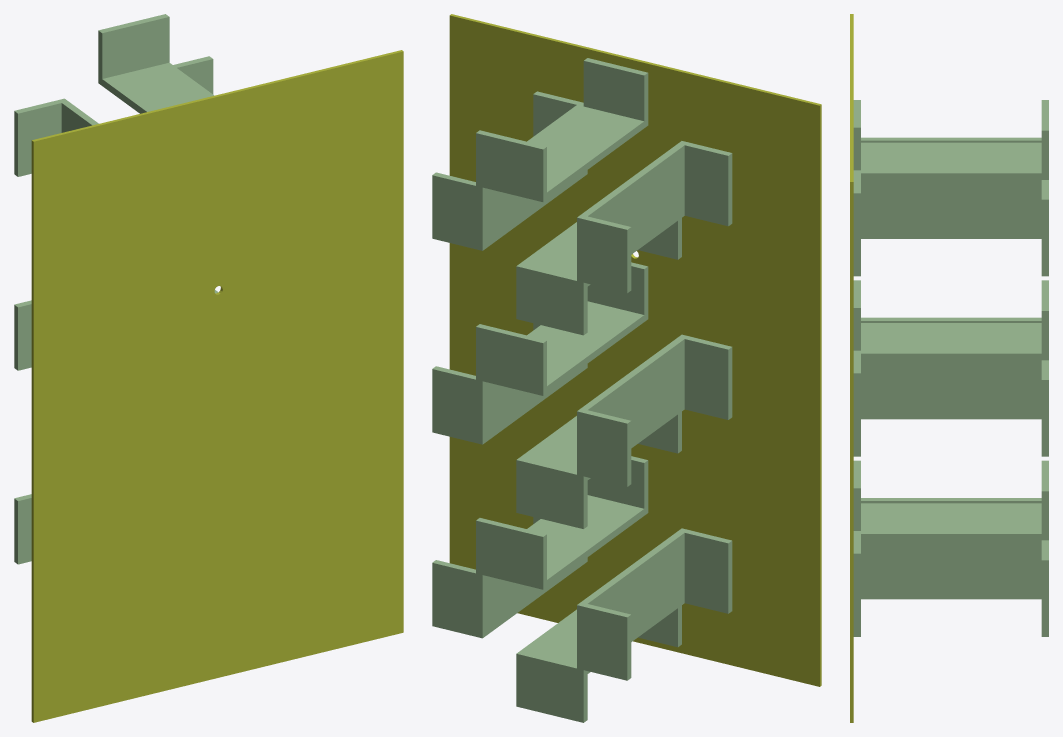
Rendered from tables_confirm_center.obj.
The picture shows the model from 3 angles, left to right: view 1: azimuth 30°, elevation 25°; view 2: azimuth 150°, elevation 25°; view 3: azimuth 270°, elevation 25°; orthographic projection. The views are drawn at different scales.
Visible parts, largest first — view 1: メッシュ フィーチャ1_1, メッシュ フィーチャ1_3, メッシュ フィーチャ1_6, メッシュ フィーチャ1_4, メッシュ フィーチャ1_7; view 2: メッシュ フィーチャ1_1, メッシュ フィーチャ1_6, メッシュ フィーチャ1_7, メッシュ フィーチャ1_4, メッシュ フィーチャ1_3, メッシュ フィーチャ1_5, メッシュ フィーチャ1_2; view 3: メッシュ フィーチャ1_2, メッシュ フィーチャ1_3, メッシュ フィーチャ1_5, メッシュ フィーチャ1_1, メッシュ フィーチャ1_6, メッシュ フィーチャ1_4, メッシュ フィーチャ1_7.
Boxes of the visible parts, x1,y1,x2,y2 form: メッシュ フィーチャ1_1: (31, 50, 403, 722); メッシュ フィーチャ1_3: (98, 14, 213, 113); メッシュ フィーチャ1_6: (14, 98, 98, 176); メッシュ フィーチャ1_4: (14, 300, 31, 370); メッシュ フィーチャ1_7: (14, 494, 31, 564); メッシュ フィーチャ1_1: (449, 14, 821, 686); メッシュ フィーチャ1_6: (516, 141, 732, 335); メッシュ フィーチャ1_7: (516, 528, 732, 722); メッシュ フィーチャ1_4: (516, 334, 732, 528); メッシュ フィーチャ1_3: (432, 58, 648, 250); メッシュ フィーチャ1_5: (432, 262, 648, 444); メッシュ フィーチャ1_2: (432, 456, 648, 638); メッシュ フィーチャ1_2: (853, 460, 1048, 619); メッシュ フィーチャ1_3: (853, 100, 1048, 258); メッシュ フィーチャ1_5: (853, 280, 1048, 438); メッシュ フィーチャ1_1: (850, 14, 853, 722); メッシュ フィーチャ1_6: (853, 137, 1048, 276); メッシュ フィーチャ1_4: (853, 317, 1048, 456); メッシュ フィーチャ1_7: (853, 498, 1048, 636).
Bounding box in the file's own units: 220 × 330 × 110.
